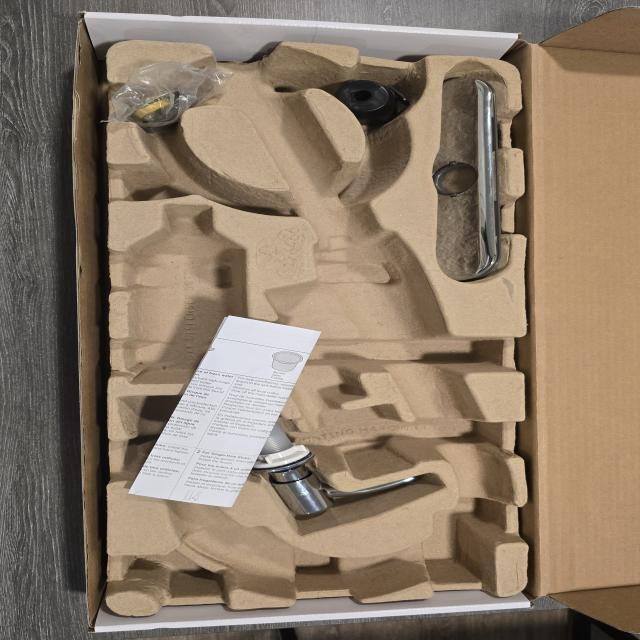1m: (121, 43, 512, 597)
2o: (221, 402, 417, 517)
3m: (126, 203, 244, 383)
4: (433, 78, 503, 280)
5: (334, 80, 411, 126)
6: (103, 60, 237, 131)
7m: (124, 134, 246, 209)
8: (125, 315, 320, 507)
